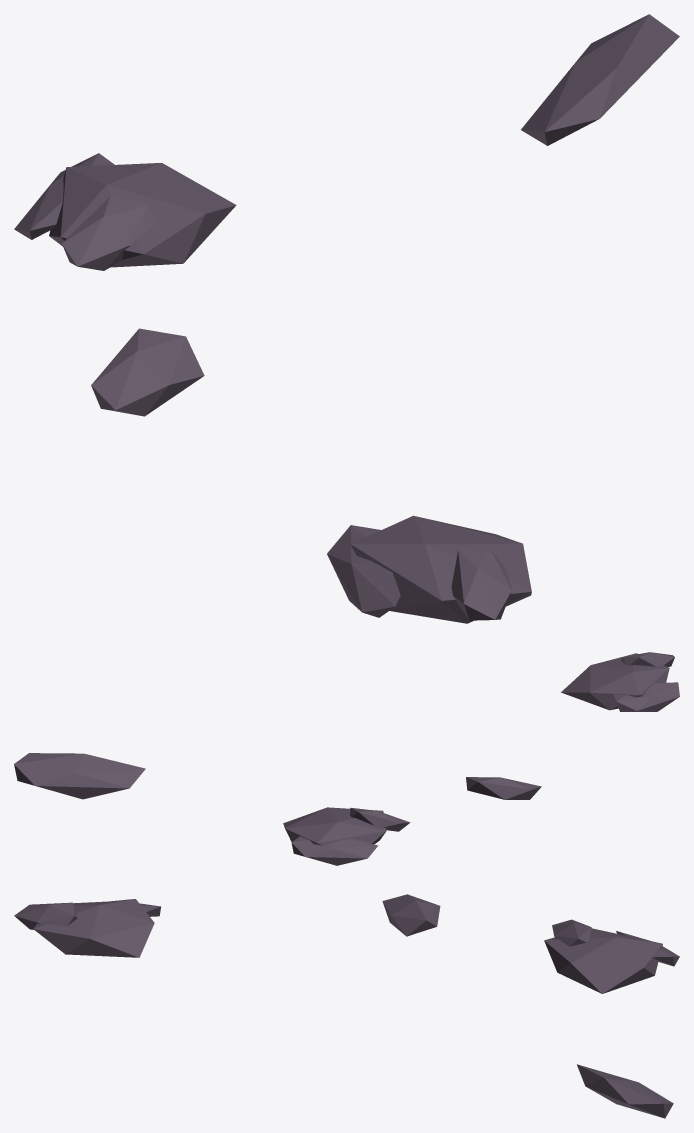
File: Environment.fbx
3 renders of one model, top to bottom at view 1: azimuth 30°, elevation 25°; view 2: azimuth 150°, elevation 25°; view 3: azimuth 270°, elevation 25°, orthographic. The views are drawn at different scales.
Parts seen in each view (by area): view 1: Icosphere.003, Icosphere, Icosphere.007, Icosphere.006, Icosphere.004, Icosphere.002, Icosphere.001, Icosphere.005; view 2: Icosphere.007, Icosphere, Icosphere.003, Icosphere.005, Icosphere.006, Icosphere.002, Icosphere.004, Icosphere.001; view 3: Icosphere.003, Icosphere, Icosphere.007, Icosphere.006, Icosphere.001, Icosphere.004, Icosphere.005.
Boxes of the visible parts, x1,y1,x2,y2 form: Icosphere.003: (49,163,236,267); Icosphere: (350,515,531,623); Icosphere.007: (521,14,679,145); Icosphere.006: (91,328,204,416); Icosphere.004: (62,196,154,270); Icosphere.002: (327,525,400,617); Icosphere.001: (451,548,512,620); Icosphere.005: (14,153,114,239); Icosphere.007: (14,753,145,799); Icosphere: (561,653,669,710); Icosphere.003: (283,807,386,845); Icosphere.005: (291,836,378,865); Icosphere.006: (466,777,541,799); Icosphere.002: (613,682,679,711); Icosphere.004: (350,808,410,831); Icosphere.001: (621,652,674,666); Icosphere.003: (544,928,662,993); Icosphere: (33,899,154,957); Icosphere.007: (577,1064,673,1118); Icosphere.006: (382,894,440,936); Icosphere.001: (14,902,77,929); Icosphere.004: (552,919,591,946); Icosphere.005: (616,931,679,966).
Size of what is drawn, in the model's own units: 1125 by 97.45 by 1417.
